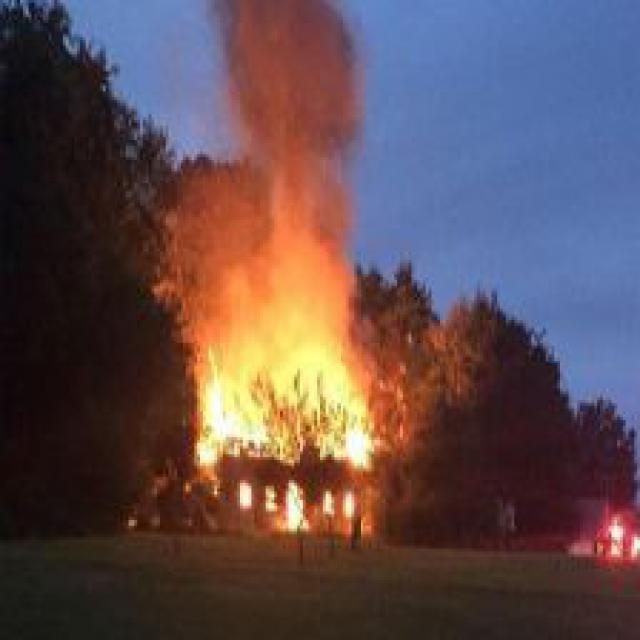fire: (166, 132, 400, 477)
